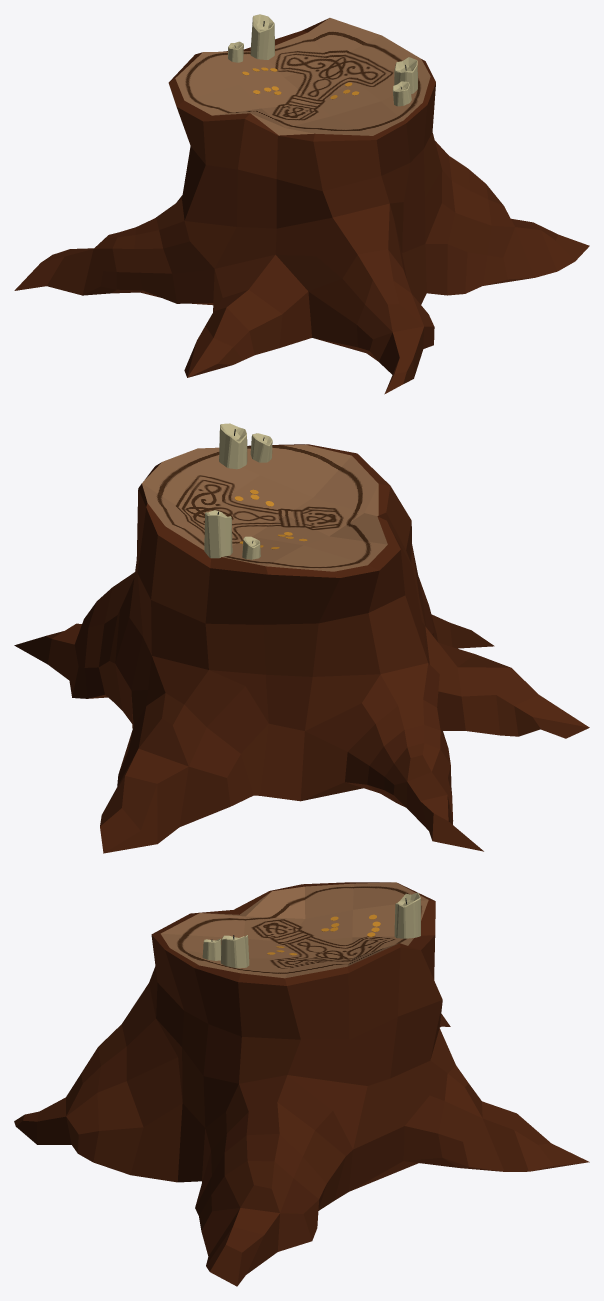
Rendered from Altar.fbx.
3 renders of one model, top to bottom at view 1: azimuth 30°, elevation 25°; view 2: azimuth 150°, elevation 25°; view 3: azimuth 270°, elevation 25°, orthographic. The views are drawn at different scales.
Visible parts, largest first — view 1: Coin.006; view 2: Coin.006; view 3: Coin.006.
Part boxes in pixels (bbox=[...]): Coin.006: bbox=[14, 14, 589, 394]; Coin.006: bbox=[14, 423, 589, 853]; Coin.006: bbox=[14, 882, 589, 1286].
Bounding box in the file's own units: 542 × 254 × 502.
Materials: 5 (1 with a texture image).
